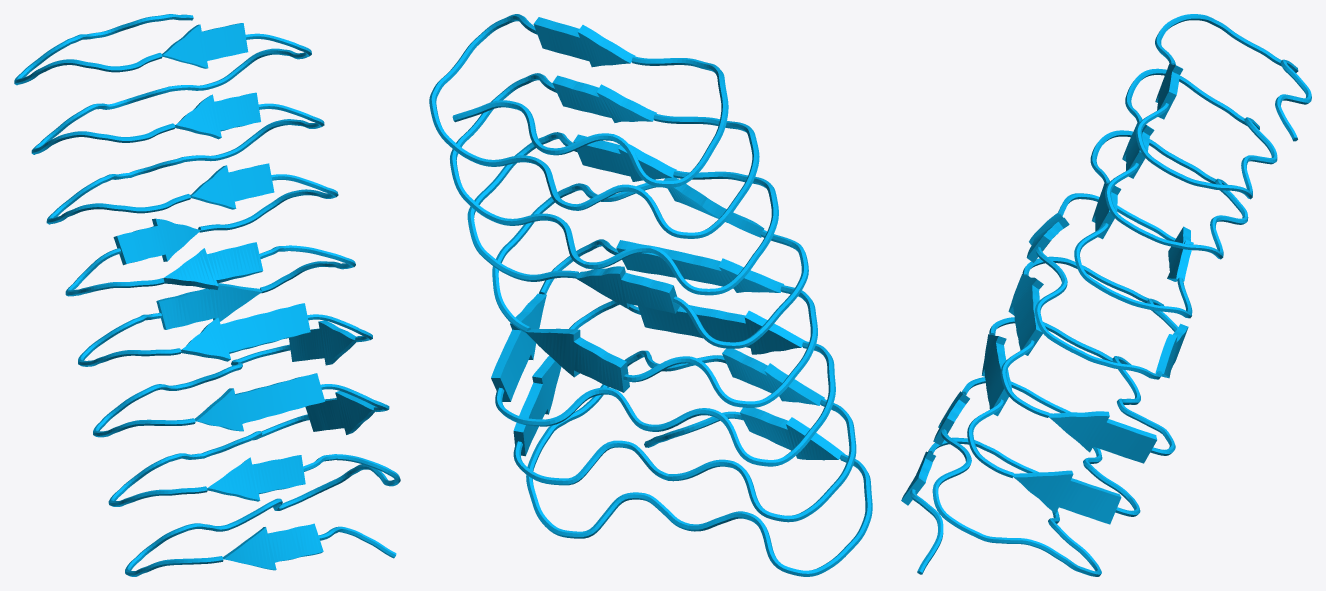
File: ibp2.glb
The picture shows the model from 3 angles, left to right: view 1: azimuth 30°, elevation 25°; view 2: azimuth 150°, elevation 25°; view 3: azimuth 270°, elevation 25°; orthographic projection. The views are drawn at different scales.
Parts seen in each view (by area): view 1: Node; view 2: Node; view 3: Node.
Part boxes in pixels (box(x1,y1,x2,y2)): Node: box(14, 14, 400, 576); Node: box(429, 14, 872, 576); Node: box(901, 14, 1311, 576).
Size of the model in its own units: 19.76 by 34.63 by 26.54.
